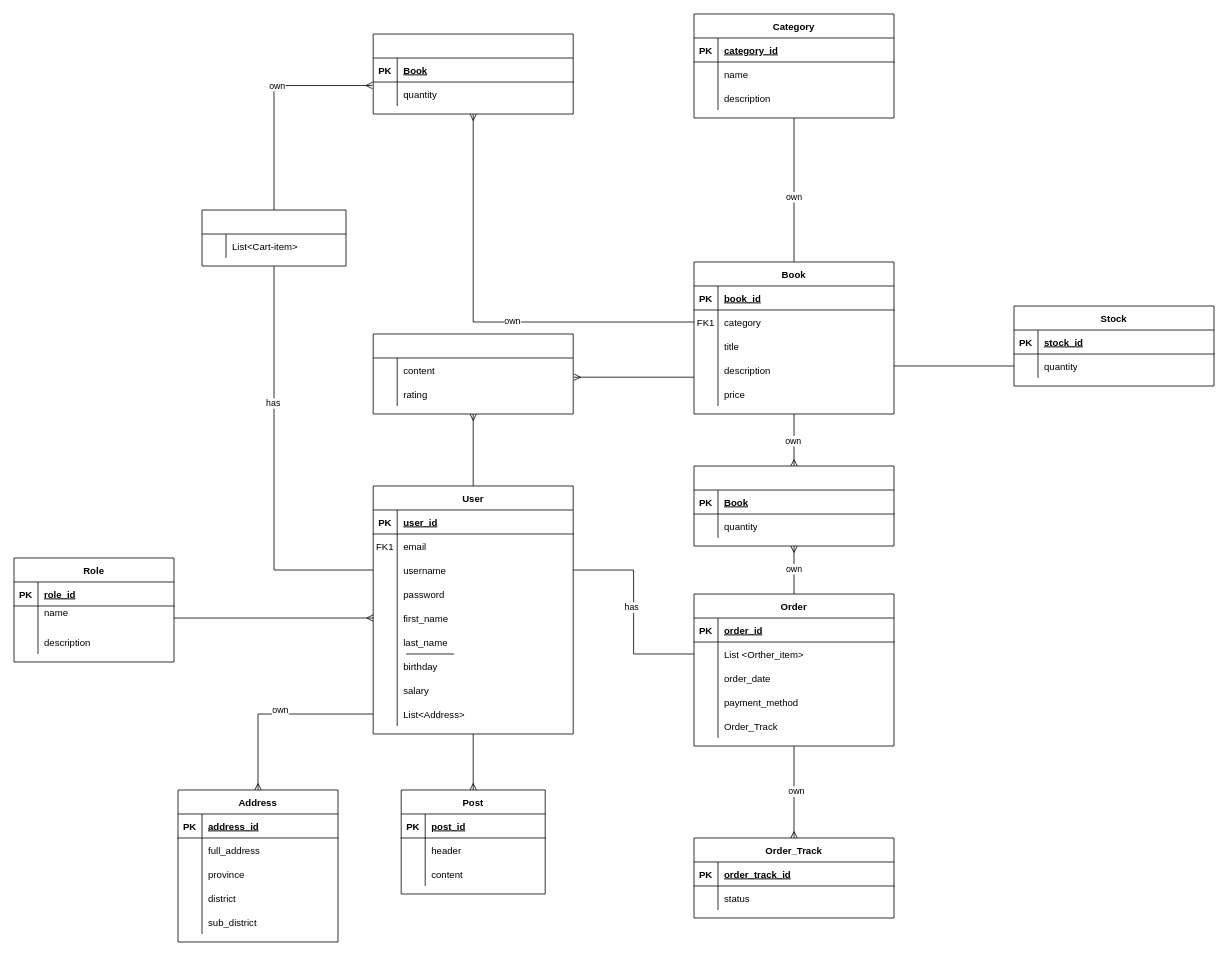
This 1228x956 diagram has some shape labels left out. The shapes that lost their labels are listed below. From the top down, each one's box as (x1, y1, x2, y2) in pixels, then its label:
(372, 33, 573, 114): Cart_item
(201, 209, 346, 266): Cart
(372, 333, 573, 414): Feedback
(693, 465, 894, 546): Order_item
